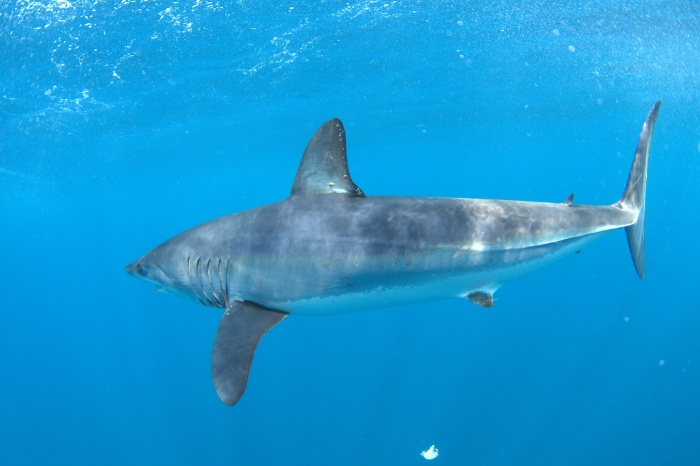Mako: (114, 91, 680, 417)
